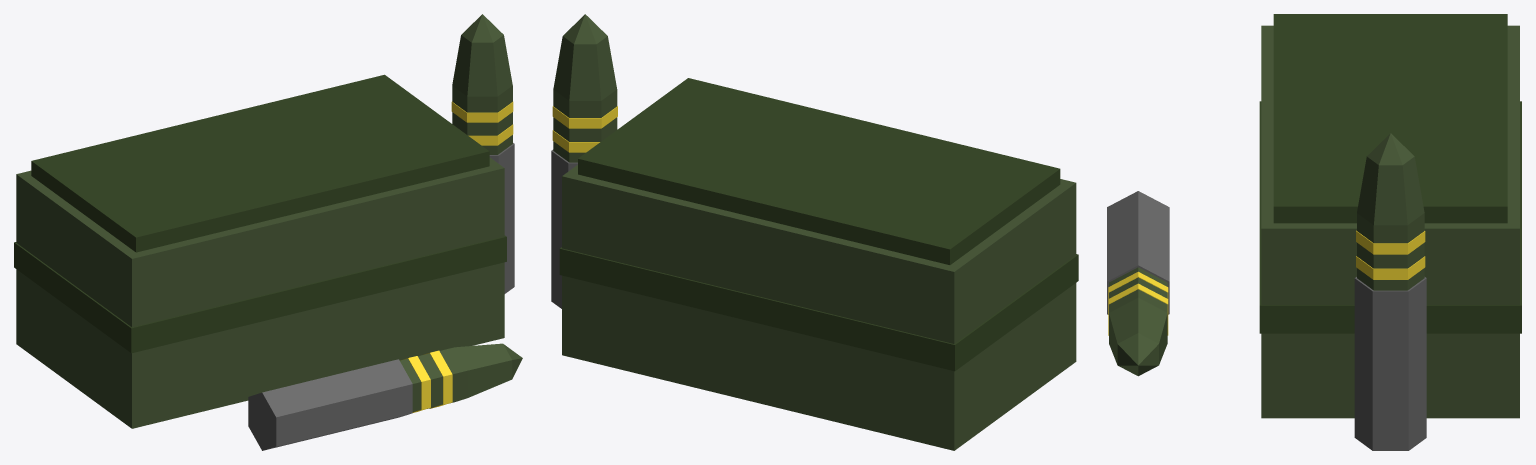
Rendered from ce_ammo2_rcl84_he_c.obj.
3 views of the same model, side by side, from view 1: azimuth 30°, elevation 25°; view 2: azimuth 150°, elevation 25°; view 3: azimuth 270°, elevation 25° (orthographic). The views are drawn at different scales.
Visible parts, largest first — view 1: ce_ammo2_rcl84_he_c_0, ce_ammo2_rcl84_he_c_1, ce_ammo2_rcl84_he_c_2, ce_ammo2_rcl84_he_c_11, ce_ammo2_rcl84_he_c_9, ce_ammo2_rcl84_he_c_17, ce_ammo2_rcl84_he_c_3, ce_ammo2_rcl84_he_c_8, ce_ammo2_rcl84_he_c_16, ce_ammo2_rcl84_he_c_6, ce_ammo2_rcl84_he_c_10, ce_ammo2_rcl84_he_c_7 (+4 smaller); view 2: ce_ammo2_rcl84_he_c_0, ce_ammo2_rcl84_he_c_1, ce_ammo2_rcl84_he_c_2, ce_ammo2_rcl84_he_c_9, ce_ammo2_rcl84_he_c_3, ce_ammo2_rcl84_he_c_8, ce_ammo2_rcl84_he_c_6, ce_ammo2_rcl84_he_c_10, ce_ammo2_rcl84_he_c_7; view 3: ce_ammo2_rcl84_he_c_1, ce_ammo2_rcl84_he_c_0, ce_ammo2_rcl84_he_c_3, ce_ammo2_rcl84_he_c_2, ce_ammo2_rcl84_he_c_11, ce_ammo2_rcl84_he_c_9, ce_ammo2_rcl84_he_c_17, ce_ammo2_rcl84_he_c_18, ce_ammo2_rcl84_he_c_8, ce_ammo2_rcl84_he_c_6, ce_ammo2_rcl84_he_c_10, ce_ammo2_rcl84_he_c_7 (+4 smaller).
Boxes of the visible parts, x1,y1,x2,y2 form: ce_ammo2_rcl84_he_c_0: (16, 157, 504, 428); ce_ammo2_rcl84_he_c_1: (31, 74, 489, 252); ce_ammo2_rcl84_he_c_2: (14, 235, 506, 353); ce_ammo2_rcl84_he_c_11: (248, 359, 412, 450); ce_ammo2_rcl84_he_c_9: (452, 35, 512, 96); ce_ammo2_rcl84_he_c_17: (455, 343, 512, 397); ce_ammo2_rcl84_he_c_3: (489, 143, 514, 293); ce_ammo2_rcl84_he_c_8: (452, 85, 512, 112); ce_ammo2_rcl84_he_c_16: (439, 347, 467, 403); ce_ammo2_rcl84_he_c_6: (452, 112, 512, 135); ce_ammo2_rcl84_he_c_10: (461, 14, 503, 42); ce_ammo2_rcl84_he_c_7: (451, 101, 513, 122); ce_ammo2_rcl84_he_c_0: (562, 165, 1076, 450); ce_ammo2_rcl84_he_c_1: (578, 78, 1060, 264); ce_ammo2_rcl84_he_c_2: (559, 247, 1078, 371); ce_ammo2_rcl84_he_c_9: (553, 36, 616, 100); ce_ammo2_rcl84_he_c_3: (551, 149, 577, 308); ce_ammo2_rcl84_he_c_8: (553, 89, 617, 117); ce_ammo2_rcl84_he_c_6: (553, 117, 617, 141); ce_ammo2_rcl84_he_c_10: (563, 14, 607, 44); ce_ammo2_rcl84_he_c_7: (552, 106, 617, 128); ce_ammo2_rcl84_he_c_1: (1273, 14, 1507, 223); ce_ammo2_rcl84_he_c_0: (1261, 25, 1519, 418); ce_ammo2_rcl84_he_c_3: (1354, 277, 1426, 450); ce_ammo2_rcl84_he_c_2: (1259, 101, 1521, 333); ce_ammo2_rcl84_he_c_11: (1107, 191, 1169, 314); ce_ammo2_rcl84_he_c_9: (1357, 156, 1424, 225); ce_ammo2_rcl84_he_c_17: (1109, 297, 1167, 364); ce_ammo2_rcl84_he_c_18: (1117, 333, 1158, 376); ce_ammo2_rcl84_he_c_8: (1357, 213, 1424, 243); ce_ammo2_rcl84_he_c_6: (1357, 242, 1424, 268); ce_ammo2_rcl84_he_c_10: (1367, 133, 1414, 165); ce_ammo2_rcl84_he_c_7: (1356, 230, 1425, 254).
Size of the model in its own units: 0.9087 by 0.546 by 0.6737.
